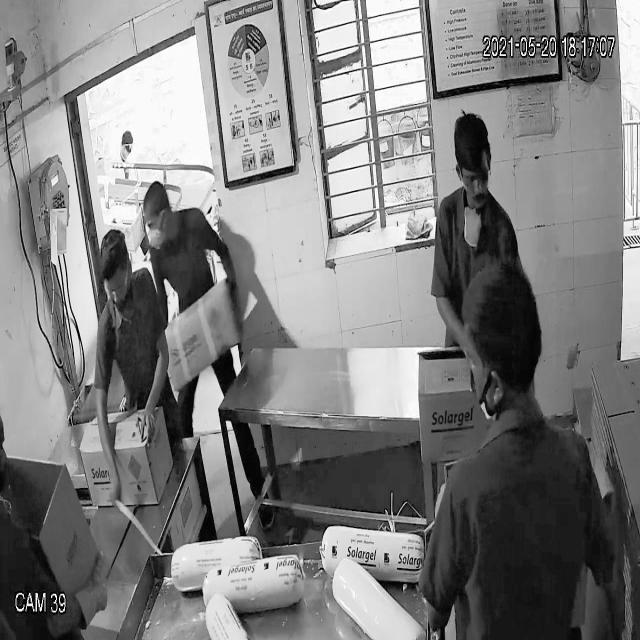glasses: (457, 164, 499, 198)
